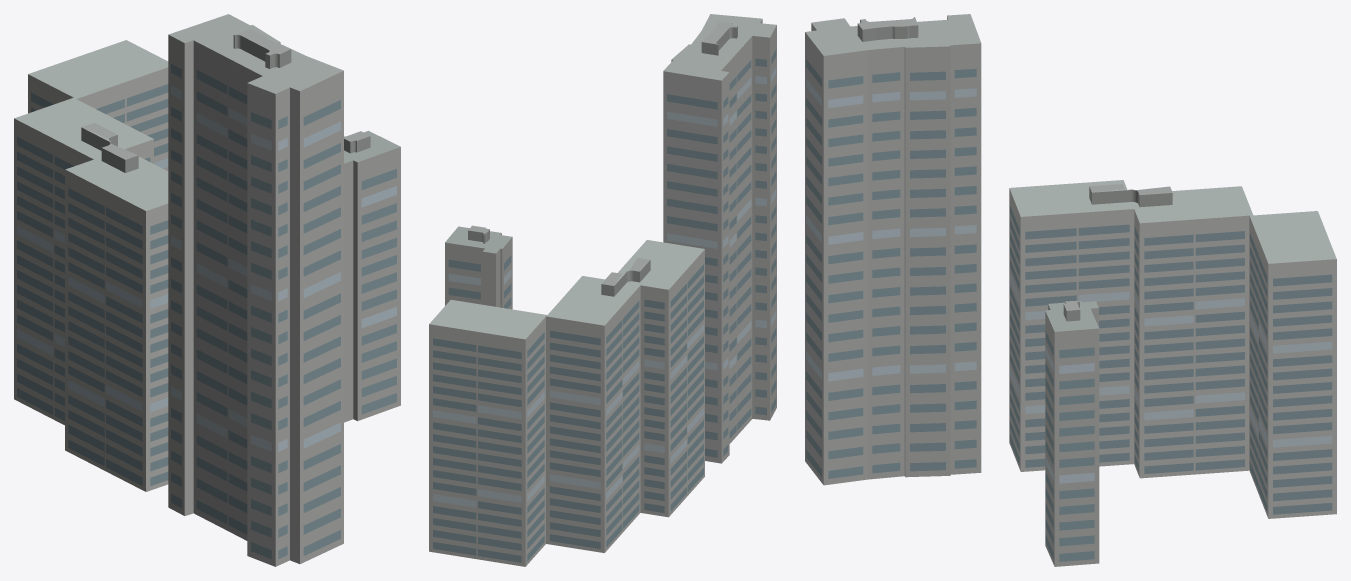
File: apt-a10025280.glb
3 views of the same model, side by side, from view 1: azimuth 30°, elevation 25°; view 2: azimuth 150°, elevation 25°; view 3: azimuth 270°, elevation 25° (orthographic). The views are drawn at different scales.
Visible parts, largest first — view 1: apt-a10025280; view 2: apt-a10025280; view 3: apt-a10025280.
Part boxes in pixels (x1,y1,x2,y2): apt-a10025280: (14,14,400,566); apt-a10025280: (429,14,776,566); apt-a10025280: (805,14,1336,566).
Size of the model in its own units: 55.08 by 86 by 93.81.
